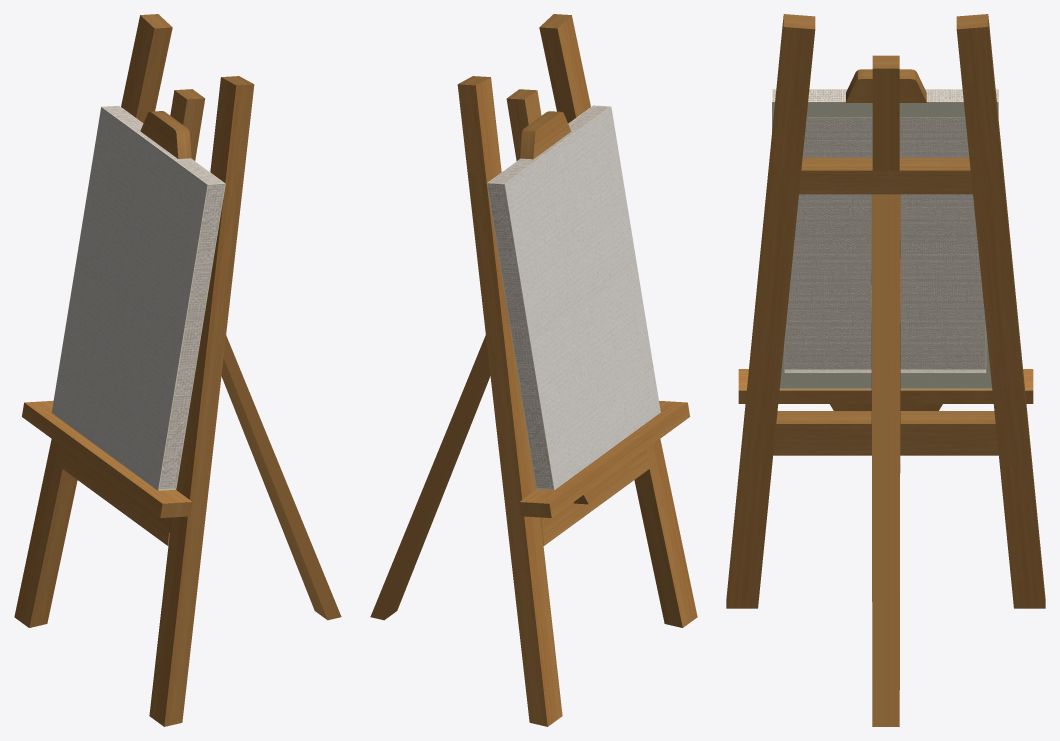
Rendered from Easel.fbx.
3 views of the same model, side by side, from view 1: azimuth 30°, elevation 25°; view 2: azimuth 150°, elevation 25°; view 3: azimuth 270°, elevation 25° (orthographic). The views are drawn at different scales.
Parts seen in each view (by area): view 1: Box014, Box003, Box009, Box013, Box010; view 2: Box014, Box003, Box009, Box013, Box010; view 3: Box003, Box014, Box009, Box013, Box010.
Part boxes in pixels (x1,y1,x2,y2): Box014: [51, 106, 225, 490]; Box003: [14, 14, 341, 726]; Box009: [22, 400, 192, 517]; Box013: [140, 111, 191, 158]; Box010: [80, 460, 137, 503]; Box014: [487, 105, 660, 490]; Box003: [370, 14, 697, 726]; Box009: [519, 401, 689, 517]; Box013: [520, 111, 571, 159]; Box010: [573, 460, 631, 504]; Box003: [726, 14, 1045, 726]; Box014: [772, 89, 998, 389]; Box009: [738, 369, 1033, 403]; Box013: [845, 69, 926, 102]; Box010: [830, 404, 942, 410].
Size of the model in its own units: 66.68 by 155 by 70.41.
5 materials, 5 textured.
